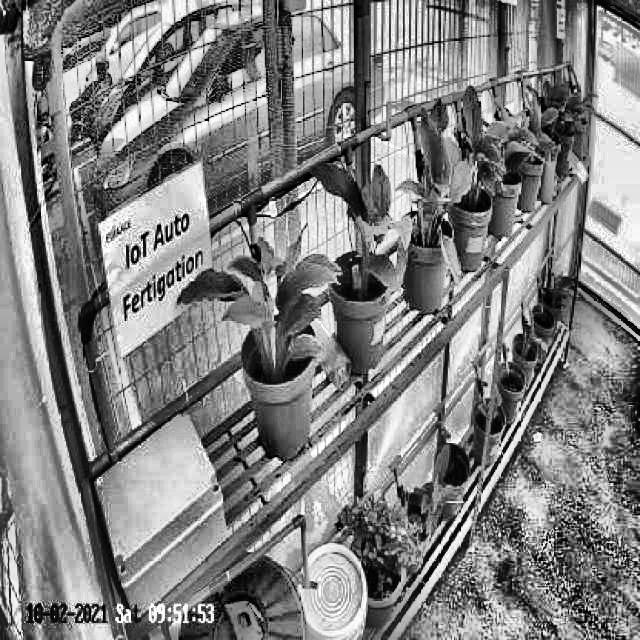plants: (176, 221, 341, 367), (312, 157, 414, 291), (402, 96, 460, 282), (440, 90, 514, 219)
